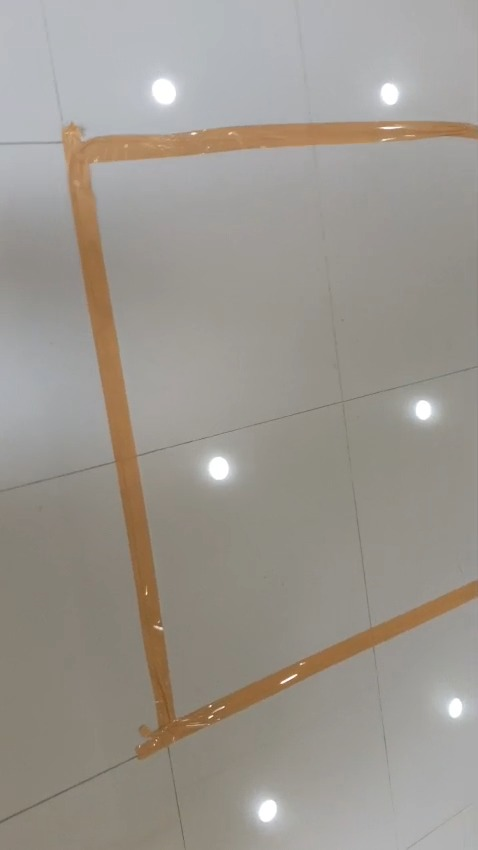floor marking: (63, 121, 477, 758)
